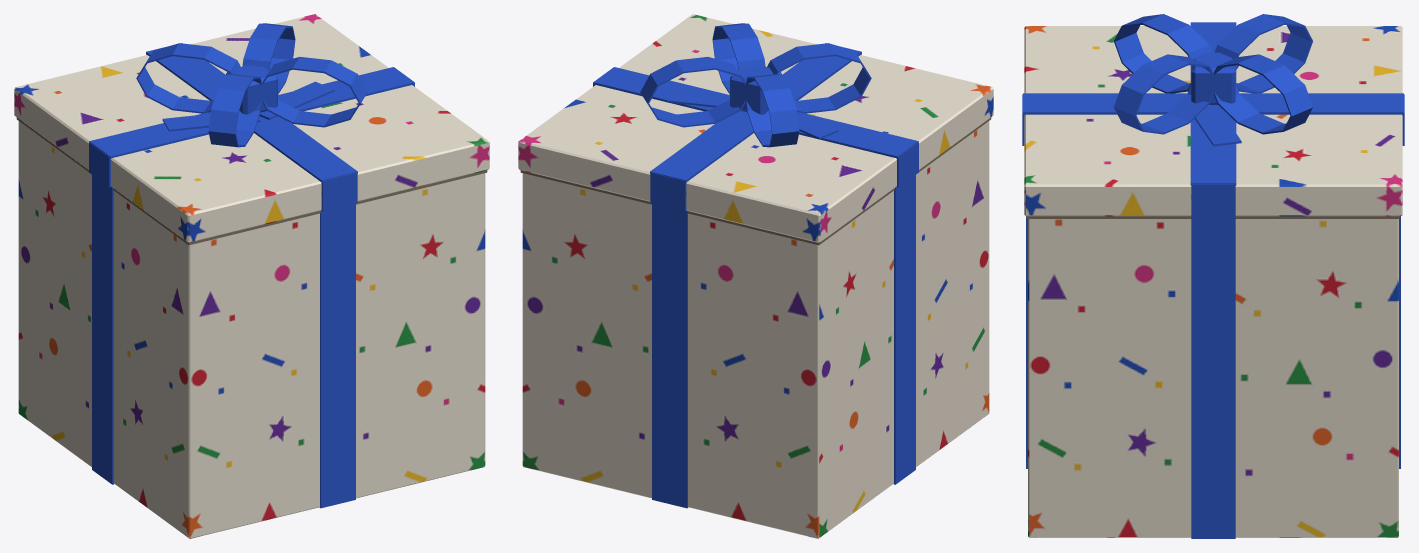
File: party_gift_confetti.glb
The picture shows the model from 3 angles, left to right: view 1: azimuth 30°, elevation 25°; view 2: azimuth 150°, elevation 25°; view 3: azimuth 270°, elevation 25°; orthographic projection. The views are drawn at different scales.
Visible parts, largest first — view 1: party_gift_confetti; view 2: party_gift_confetti; view 3: party_gift_confetti.
Part boxes in pixels (<box>): party_gift_confetti: <box>14,14,489,538</box>; party_gift_confetti: <box>518,14,993,538</box>; party_gift_confetti: <box>1022,14,1404,538</box>.
Size of the model in its own units: 0.303 by 0.3634 by 0.303.
3 materials, 1 textured.
